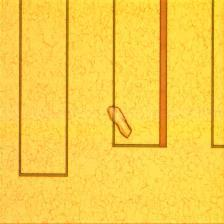COATING BAD: (105, 105, 137, 140)
